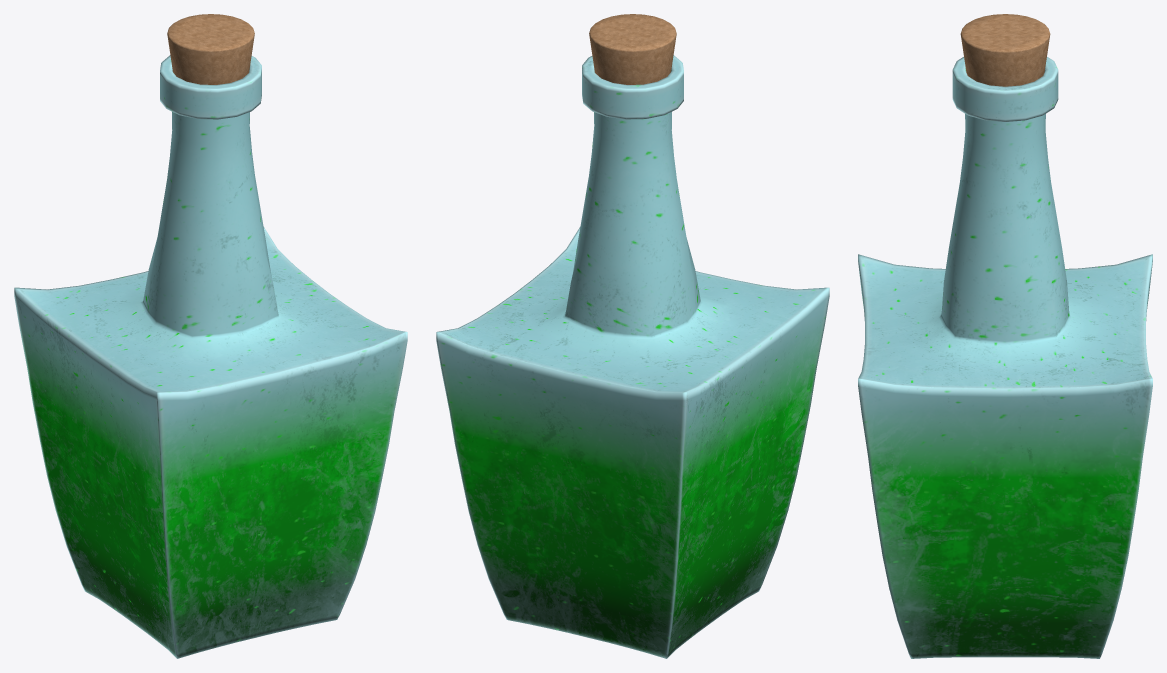
The model's file is PoisonPotion.fbx.
3 renders of one model, left to right at view 1: azimuth 30°, elevation 25°; view 2: azimuth 150°, elevation 25°; view 3: azimuth 270°, elevation 25°, orthographic. The views are drawn at different scales.
Parts seen in each view (by area): view 1: Poison_low; view 2: Poison_low; view 3: Poison_low.
Part boxes in pixels (box(x1,y1,x2,y2)): Poison_low: box(14, 14, 407, 658); Poison_low: box(436, 14, 829, 658); Poison_low: box(858, 14, 1152, 658).
Bounding box in the file's own units: 176 × 387 × 176.
